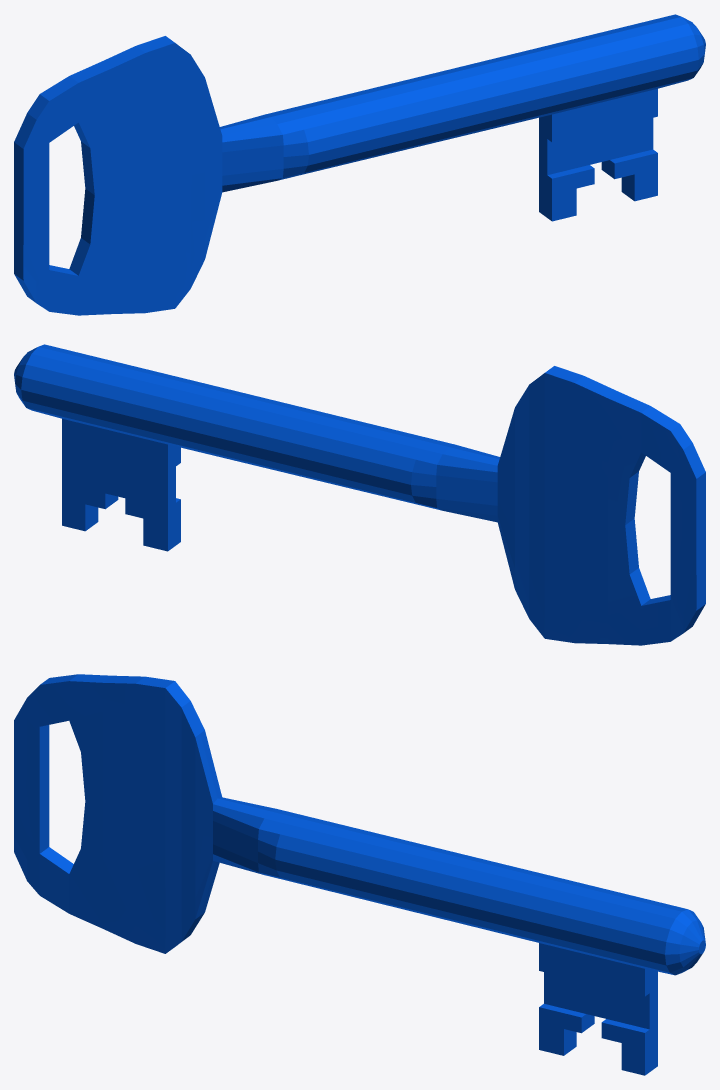
The model's file is blue key.fbx.
The picture shows the model from 3 angles, top to bottom: view 1: azimuth 30°, elevation 25°; view 2: azimuth 150°, elevation 25°; view 3: azimuth 330°, elevation 25°; orthographic projection.
Parts seen in each view (by area): view 1: chave; view 2: chave; view 3: chave.
Part boxes in pixels (x1,y1,x2,y2): chave: (14, 14, 705, 315); chave: (14, 344, 705, 645); chave: (14, 674, 705, 1075).
Size of the model in its own units: 808 by 304 by 69.25.
